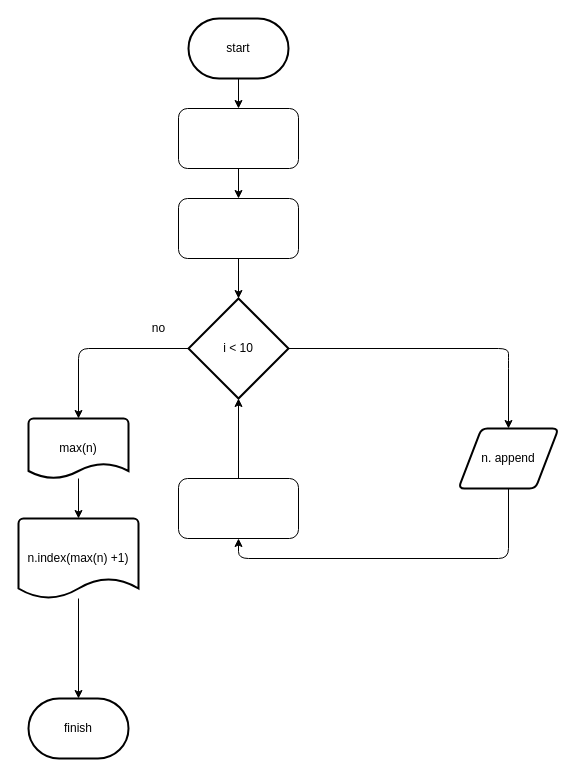
Some shapes in this 576 by 776 pixel diagram are drawn without their labels. Each missing label, with the centre of its shape:
i += 1: [238,508]
i = 1: [238,228]
n = list [ ]: [238,138]
